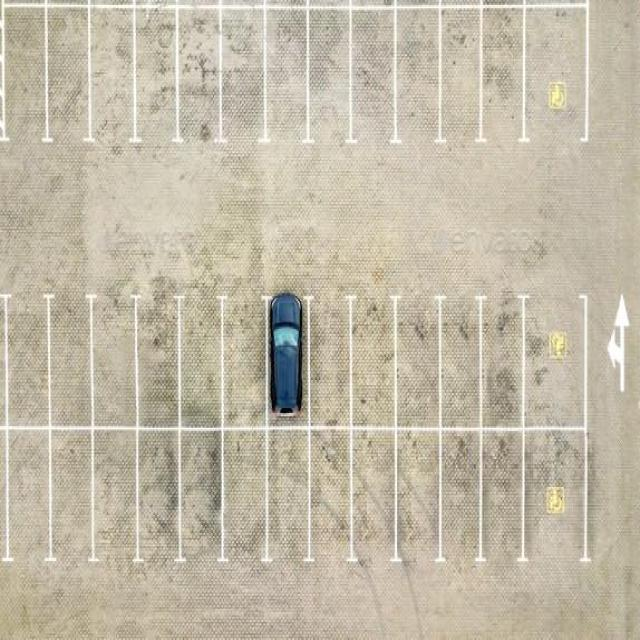space-empty: (522, 421, 593, 572), (524, 1, 593, 154), (520, 287, 589, 438), (214, 427, 274, 567), (583, 1, 638, 149), (0, 422, 55, 568), (214, 2, 270, 145), (86, 423, 142, 566), (300, 2, 356, 145), (174, 427, 231, 567), (88, 290, 145, 430), (130, 426, 186, 568), (88, 2, 143, 146), (259, 1, 314, 144), (0, 290, 56, 430), (304, 428, 360, 568), (391, 3, 445, 148), (346, 2, 400, 146), (43, 2, 97, 146), (45, 288, 100, 429), (476, 289, 529, 435), (344, 426, 398, 569), (260, 428, 316, 565), (130, 292, 186, 429), (392, 426, 445, 570), (393, 289, 447, 430), (476, 422, 528, 568), (130, 2, 182, 148), (173, 3, 226, 146), (46, 424, 100, 564), (478, 2, 528, 150), (347, 292, 401, 429), (214, 294, 269, 428), (0, 2, 51, 146), (433, 290, 485, 431), (174, 297, 229, 428), (438, 424, 487, 570), (438, 3, 487, 147), (306, 296, 359, 427)
space-occupied: (262, 293, 314, 423)
